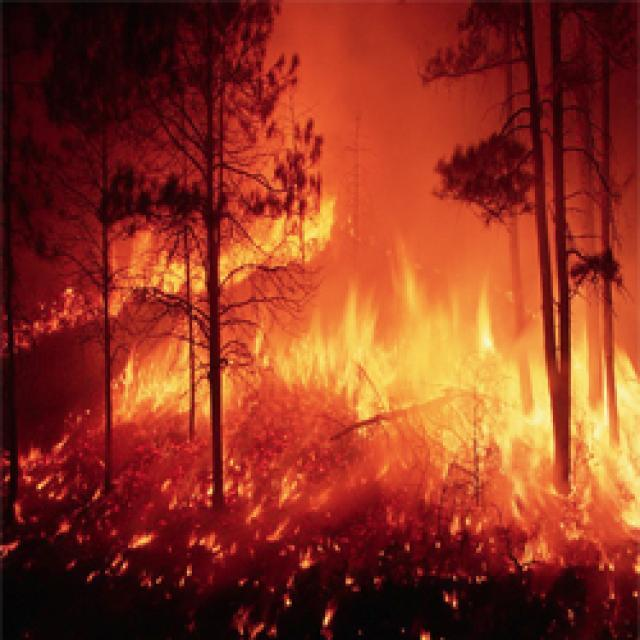Fire: (401, 275, 528, 513), (529, 312, 640, 527), (250, 286, 400, 436), (112, 334, 236, 422), (219, 200, 334, 290), (126, 477, 226, 562), (1, 438, 73, 556), (110, 230, 206, 314), (0, 284, 105, 348), (76, 439, 120, 544), (228, 498, 298, 564), (233, 566, 295, 638), (434, 514, 498, 581), (596, 535, 640, 599), (508, 536, 566, 575), (261, 452, 308, 500), (67, 553, 128, 583), (376, 508, 414, 554), (220, 448, 251, 498), (298, 536, 347, 567), (138, 566, 194, 593), (338, 570, 381, 599), (564, 526, 598, 553), (316, 605, 342, 640), (66, 403, 96, 429), (416, 540, 438, 574), (442, 589, 460, 609), (414, 630, 438, 640), (564, 606, 574, 620)
Smoke: (217, 0, 478, 198), (334, 200, 547, 284)
